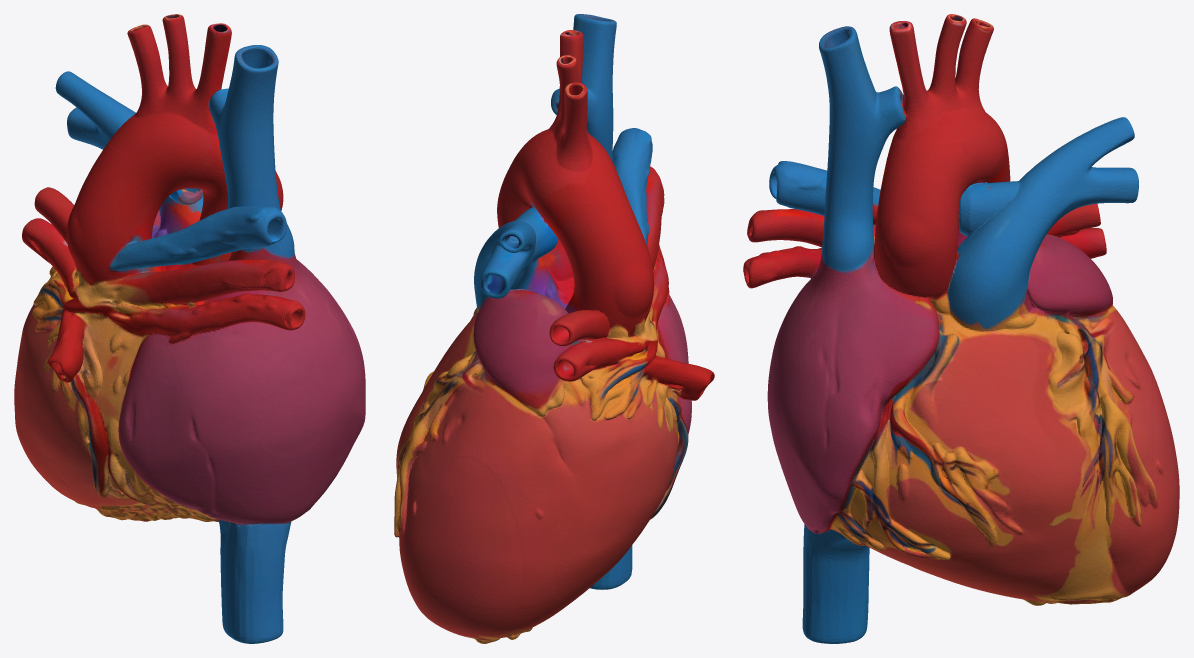
File: 3DPX-022787.glb
3 views of the same model, side by side, from view 1: azimuth 30°, elevation 25°; view 2: azimuth 150°, elevation 25°; view 3: azimuth 270°, elevation 25° (orthographic). The views are drawn at different scales.
Visible parts, largest first — view 1: tripo_node_045d8eb0-72ec-4624-9759-a425f321d17a; view 2: tripo_node_045d8eb0-72ec-4624-9759-a425f321d17a; view 3: tripo_node_045d8eb0-72ec-4624-9759-a425f321d17a.
Part boxes in pixels (x1,y1,x2,y2): tripo_node_045d8eb0-72ec-4624-9759-a425f321d17a: (14,14,365,643); tripo_node_045d8eb0-72ec-4624-9759-a425f321d17a: (394,14,714,643); tripo_node_045d8eb0-72ec-4624-9759-a425f321d17a: (743,14,1179,643).
Bounding box in the file's own units: 0.5022 × 1 × 0.6507.
Materials: 1 (1 with a texture image).
